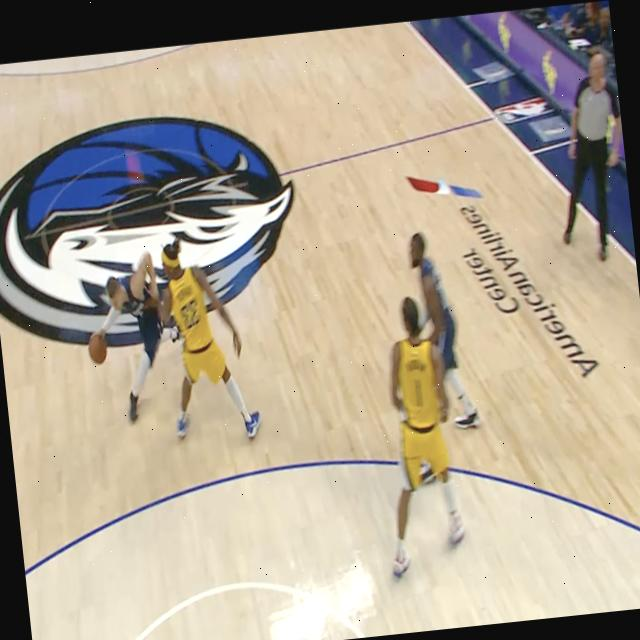no foul: (346, 200, 518, 604), (70, 199, 292, 501)
